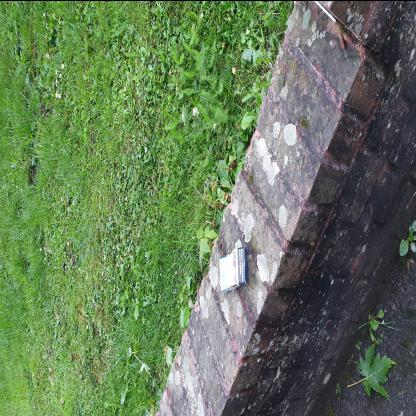karton: (219, 245, 249, 292)
